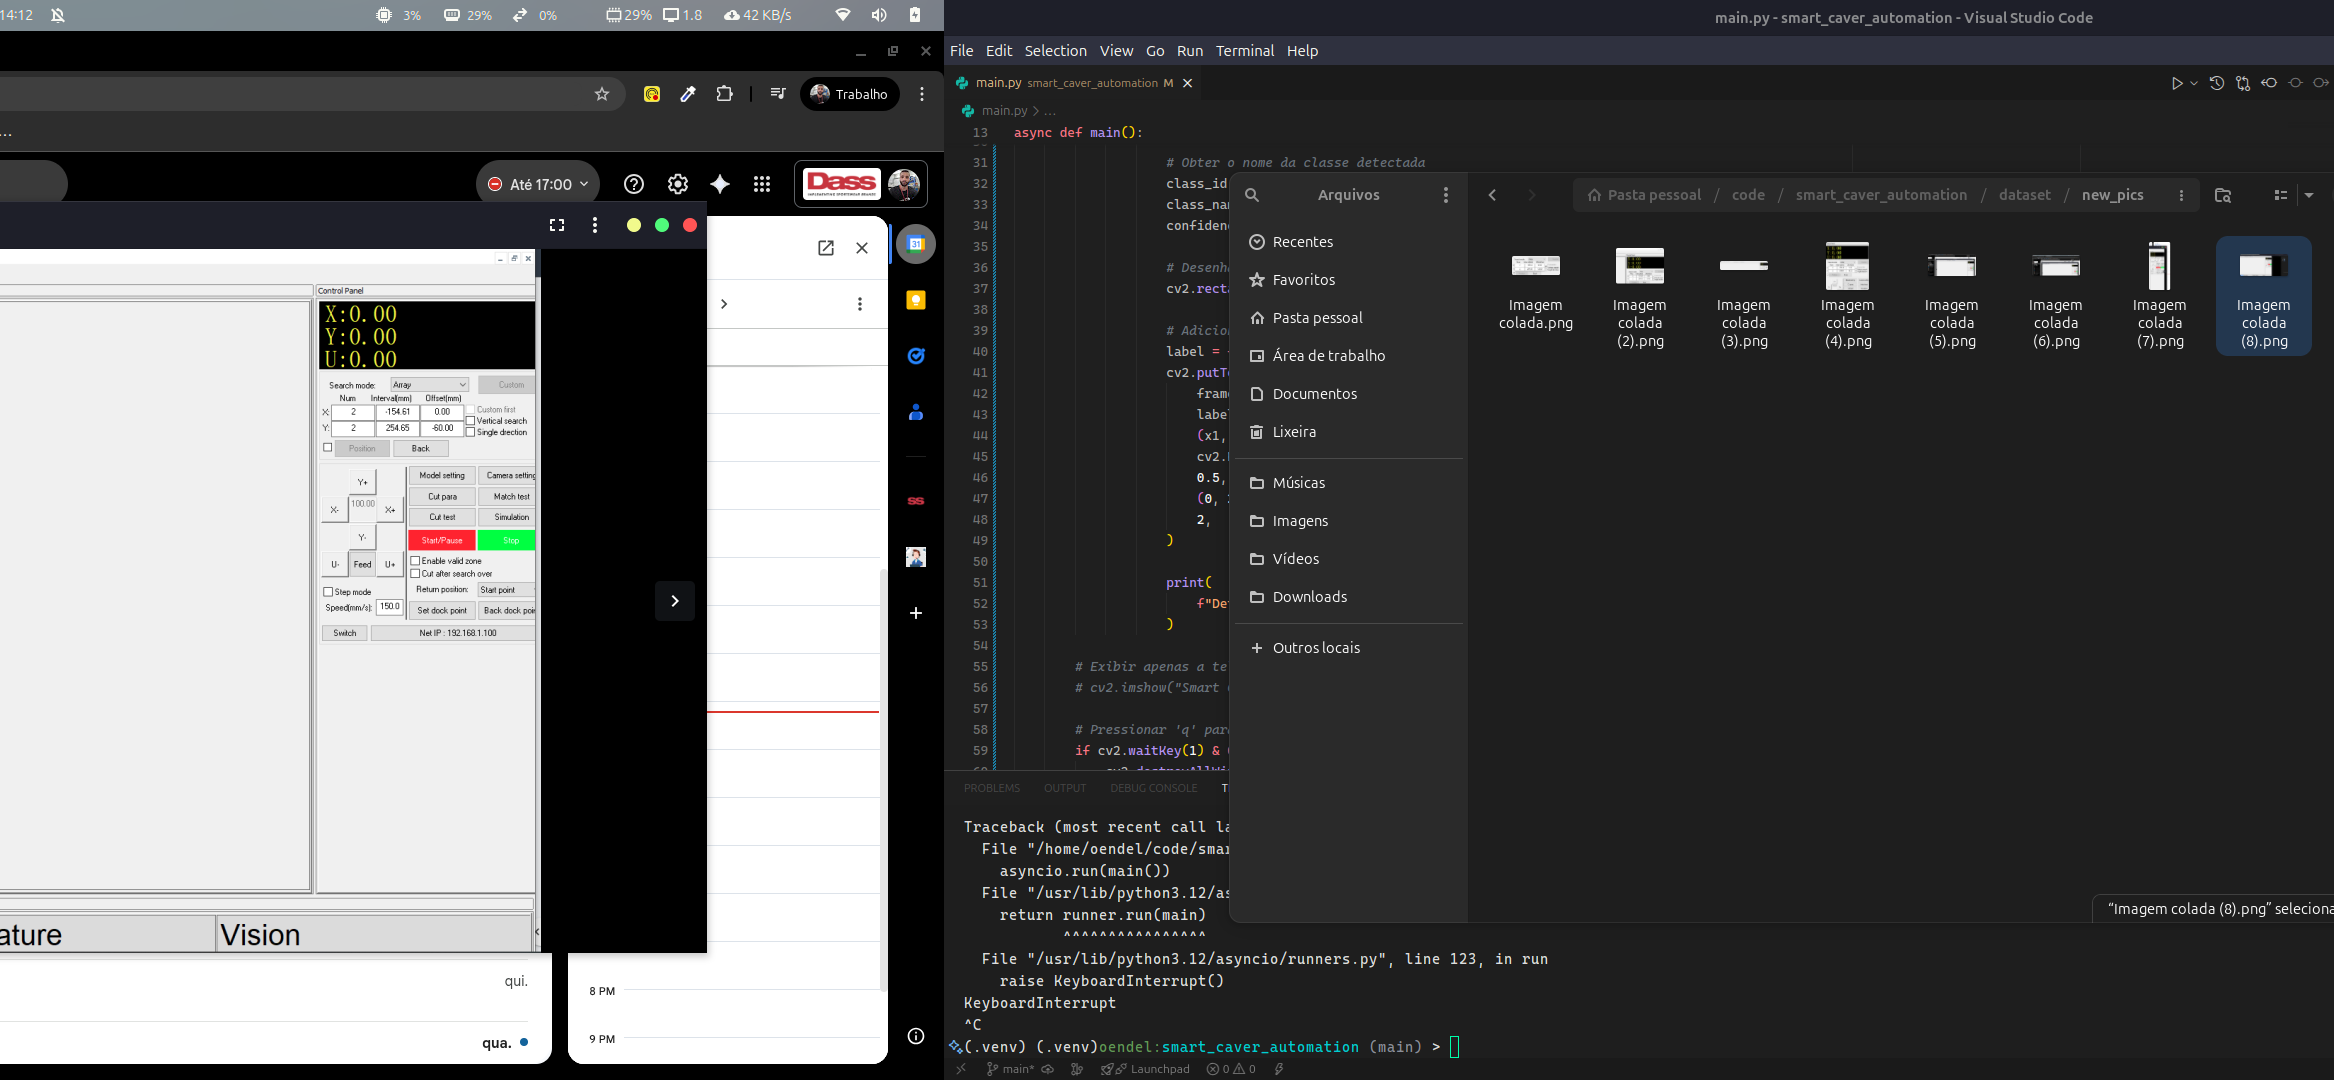start: (408, 530, 476, 549)
timer: (420, 391, 466, 434)
